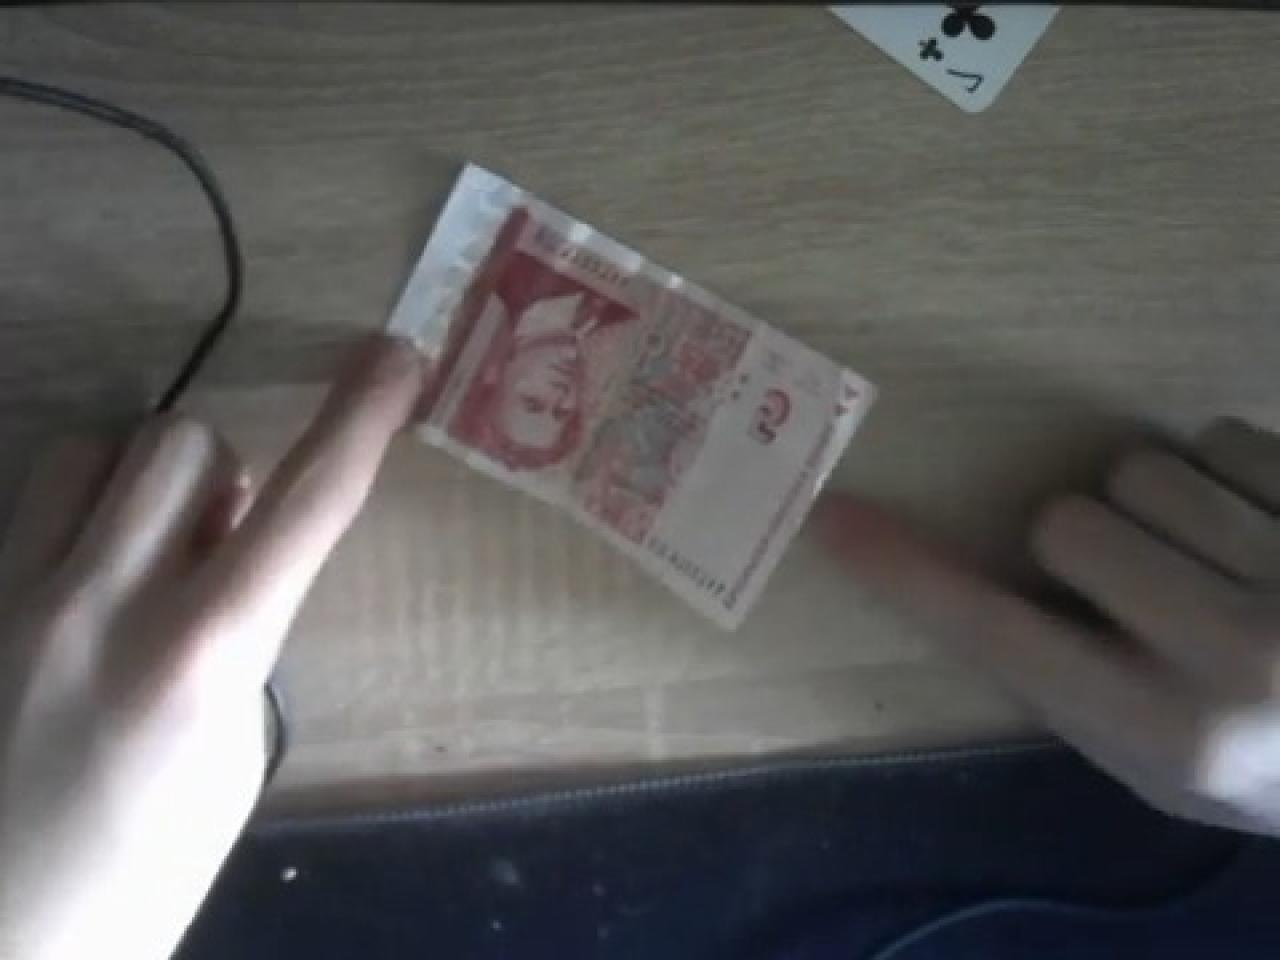5leva: (384, 160, 877, 629)
